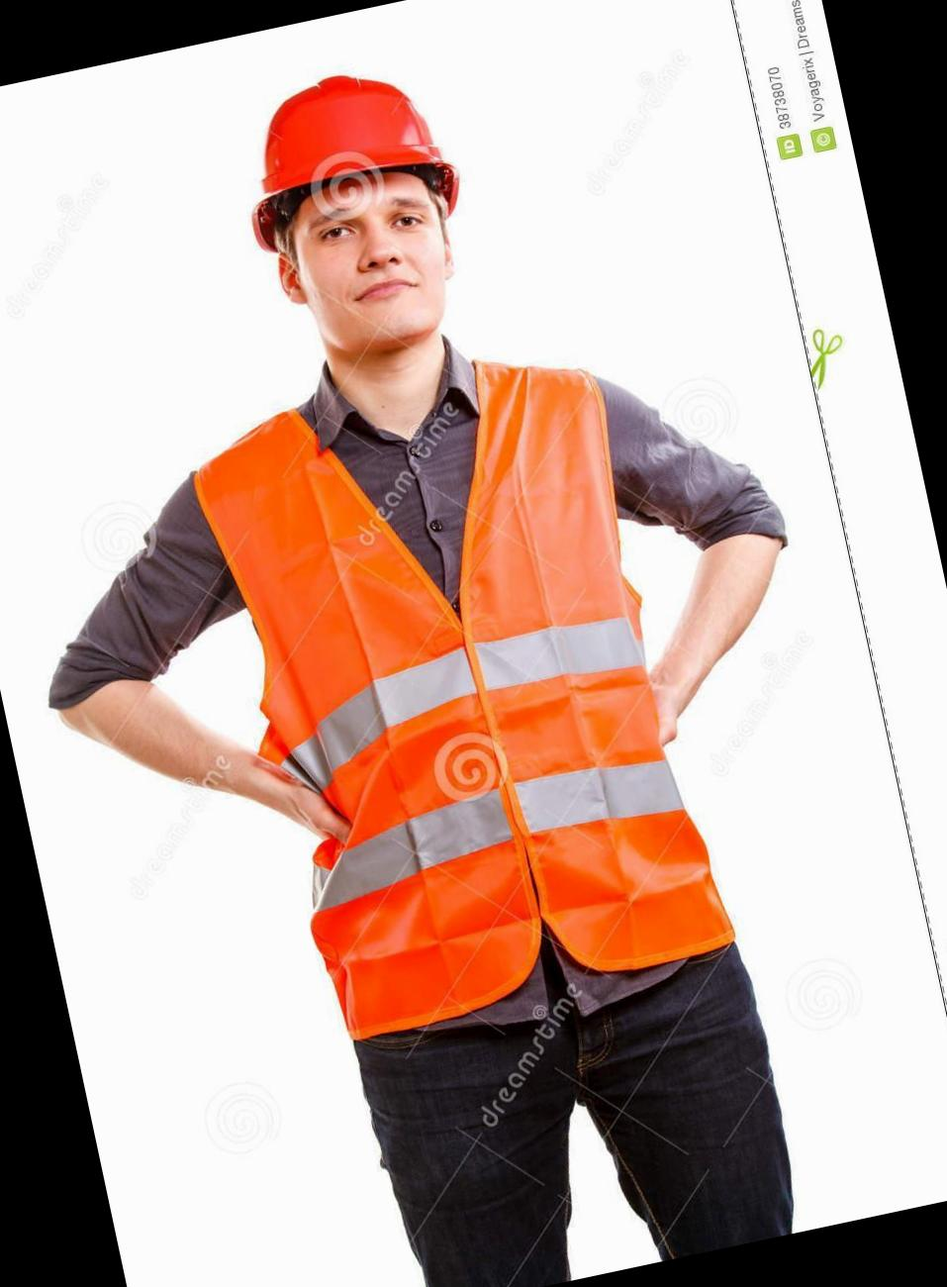helmet: (221, 58, 477, 232)
person: (35, 5, 905, 1287)
